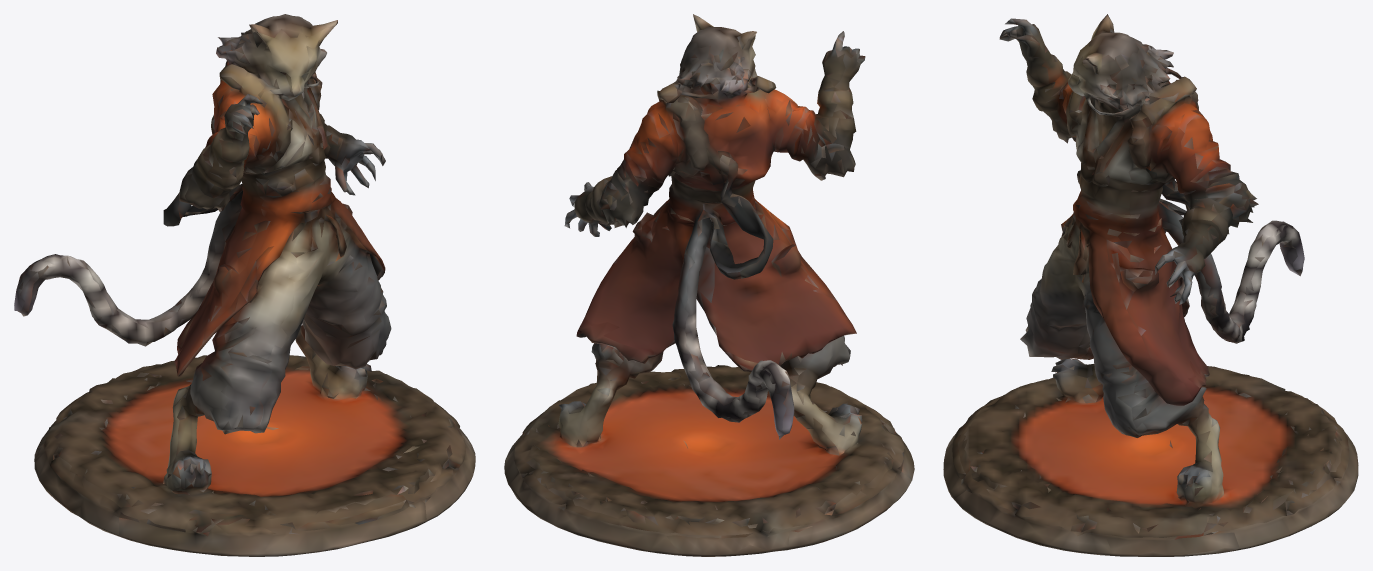
Rendered from Luna (2)_final.glb.
The picture shows the model from 3 angles, left to right: view 1: azimuth 30°, elevation 25°; view 2: azimuth 150°, elevation 25°; view 3: azimuth 270°, elevation 25°; orthographic projection. The views are drawn at different scales.
Visible parts, largest first — view 1: Mesh1.0; view 2: Mesh1.0; view 3: Mesh1.0.
Part boxes in pixels (x1,y1,x2,y2): Mesh1.0: (14,14,475,556); Mesh1.0: (504,14,914,556); Mesh1.0: (943,14,1358,556).
Bounding box in the file's own units: 1.7 × 2 × 1.7.
Materials: 1 (1 with a texture image).
